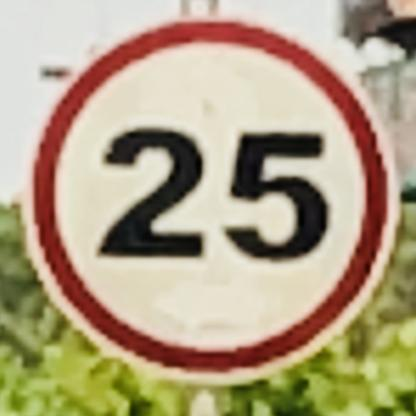Speed Limit -25 kmph-: (20, 12, 403, 383)
